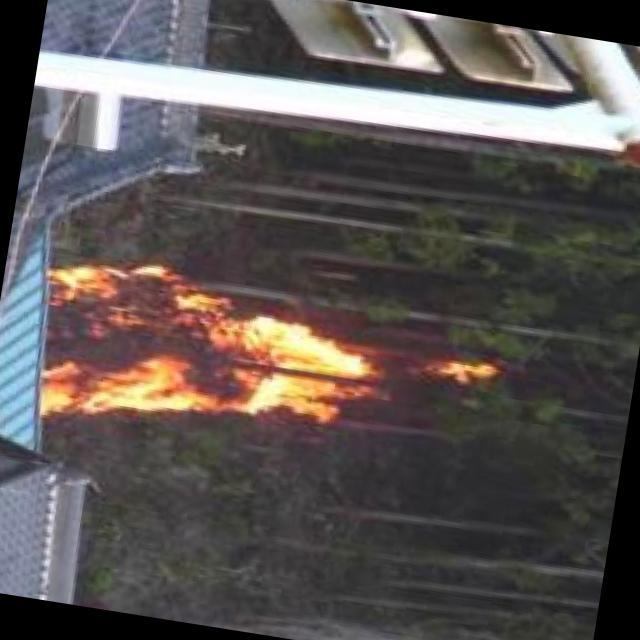Fire: (33, 251, 406, 467)
